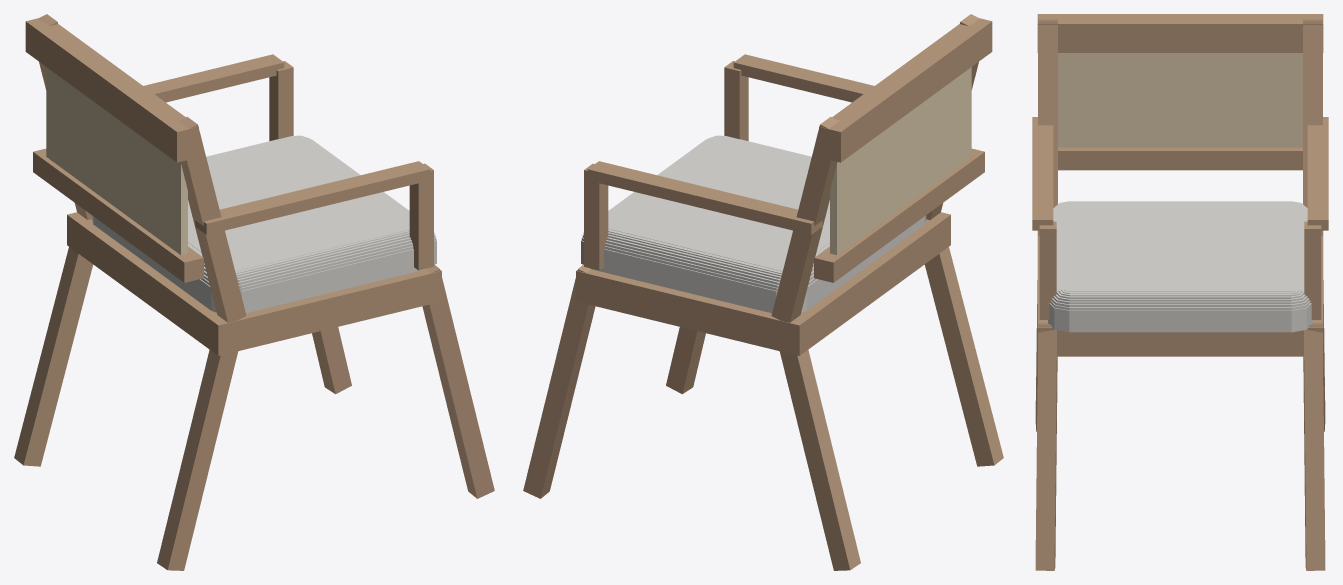
The model's file is SM_DiningChair_Cane.fbx.
3 renders of one model, left to right at view 1: azimuth 30°, elevation 25°; view 2: azimuth 150°, elevation 25°; view 3: azimuth 270°, elevation 25°, orthographic. The views are drawn at different scales.
Visible parts, largest first — view 1: SM_DiningChair_Cane; view 2: SM_DiningChair_Cane; view 3: SM_DiningChair_Cane.
Part boxes in pixels (x1,y1,x2,y2): SM_DiningChair_Cane: (14, 14, 494, 570); SM_DiningChair_Cane: (523, 14, 1003, 570); SM_DiningChair_Cane: (1032, 14, 1328, 570).
Bounding box in the file's own units: 67.63 × 86.95 × 56.
